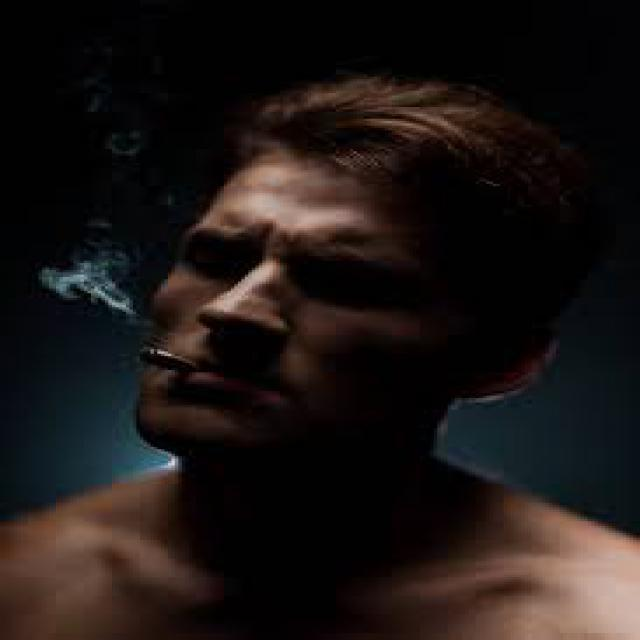smoking: (131, 332, 205, 388)
